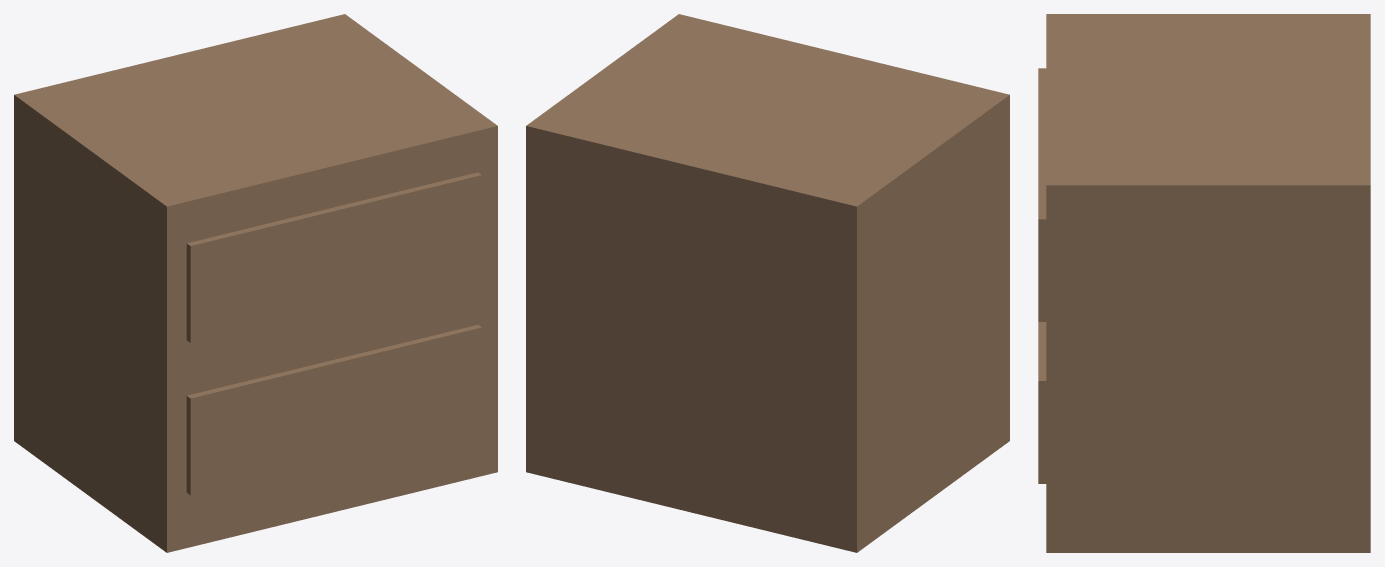
File: fu_nightstand.glb
The picture shows the model from 3 angles, left to right: view 1: azimuth 30°, elevation 25°; view 2: azimuth 150°, elevation 25°; view 3: azimuth 270°, elevation 25°; orthographic projection. The views are drawn at different scales.
Visible parts, largest first — view 1: fu_nightstand; view 2: fu_nightstand; view 3: fu_nightstand.
Boxes of the visible parts, left/top/right/bottom form: fu_nightstand: left=14, top=14, right=497, bottom=552; fu_nightstand: left=526, top=14, right=1009, bottom=552; fu_nightstand: left=1038, top=14, right=1370, bottom=552.
Size of the model in its own units: 0.5 by 0.5 by 0.41.
